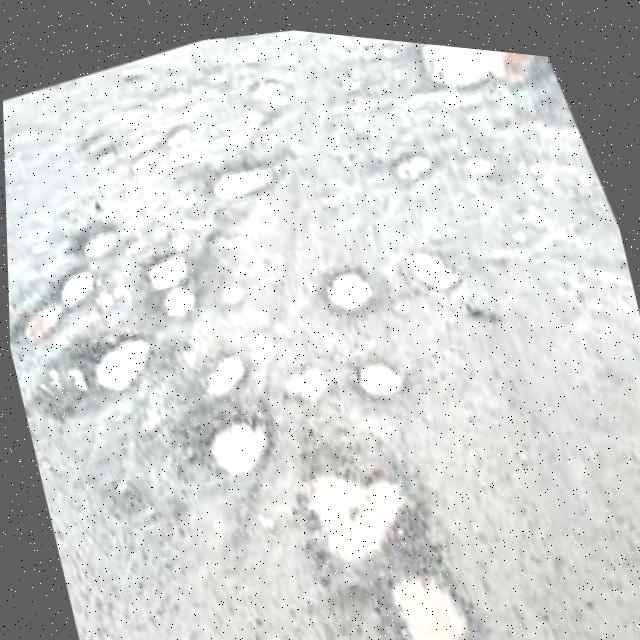Pothole: (272, 407, 440, 593), (359, 521, 488, 640), (183, 381, 291, 500), (68, 306, 167, 405), (399, 33, 521, 104), (335, 322, 420, 412), (193, 130, 284, 214), (308, 237, 385, 325), (395, 218, 467, 299), (183, 332, 255, 406), (268, 337, 337, 414), (27, 339, 96, 415), (7, 281, 72, 353), (39, 251, 105, 321), (132, 232, 196, 294), (61, 209, 128, 267), (145, 268, 204, 327), (381, 124, 439, 184)
